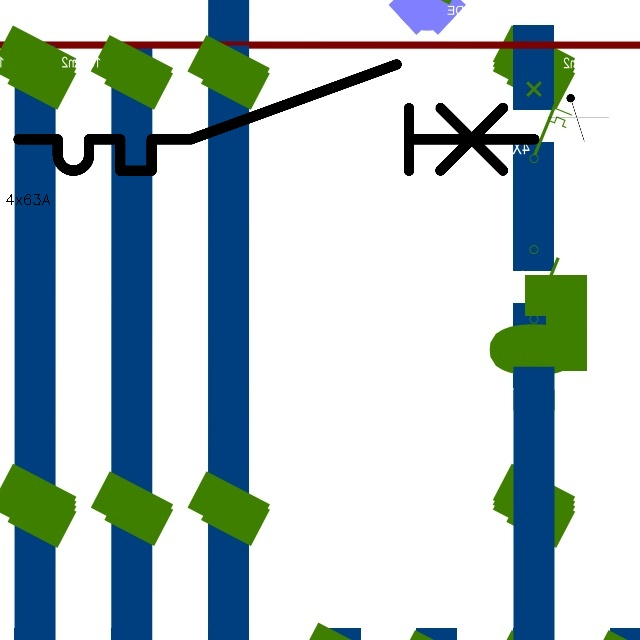interruptor_termomagnetico: (5, 51, 547, 184)
